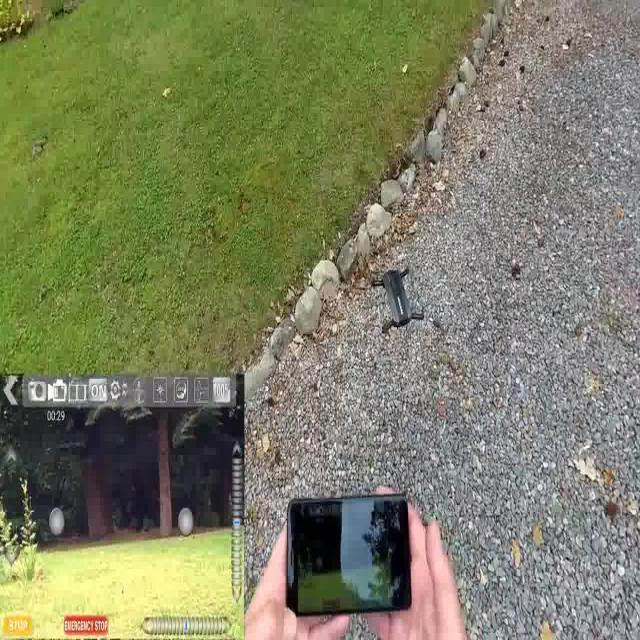drone: (368, 260, 428, 338)
